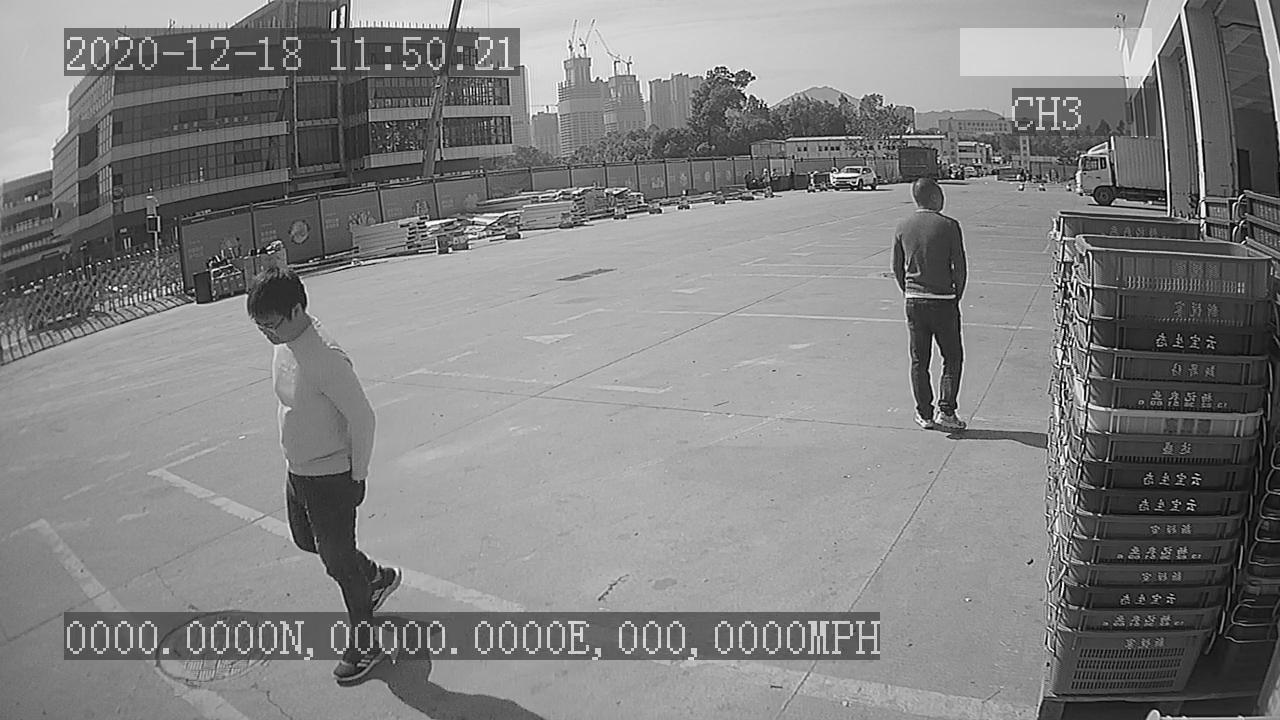person: (888, 172, 976, 438)
